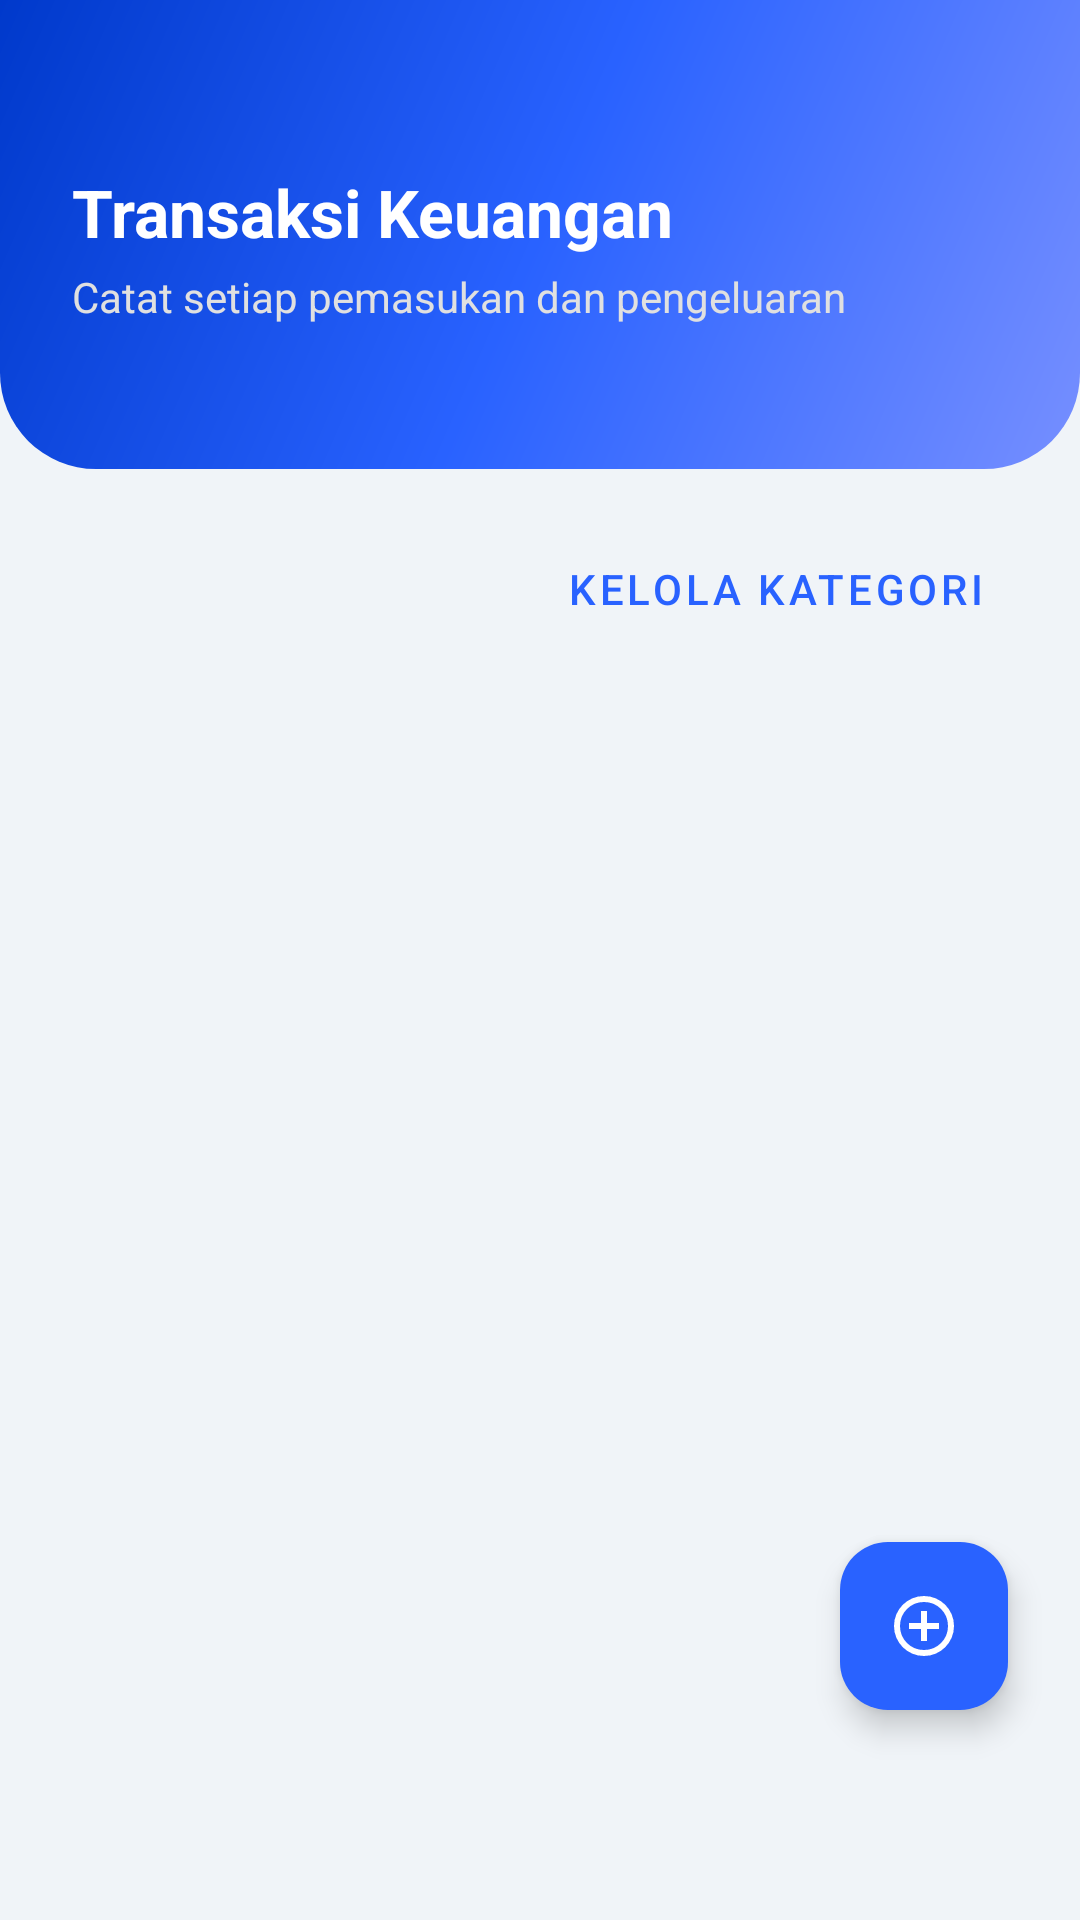

Screen size 1080px×1920px. Icon name, then its center in pixels as [x,y]:
Tambah Transaksi: [924,1626]
